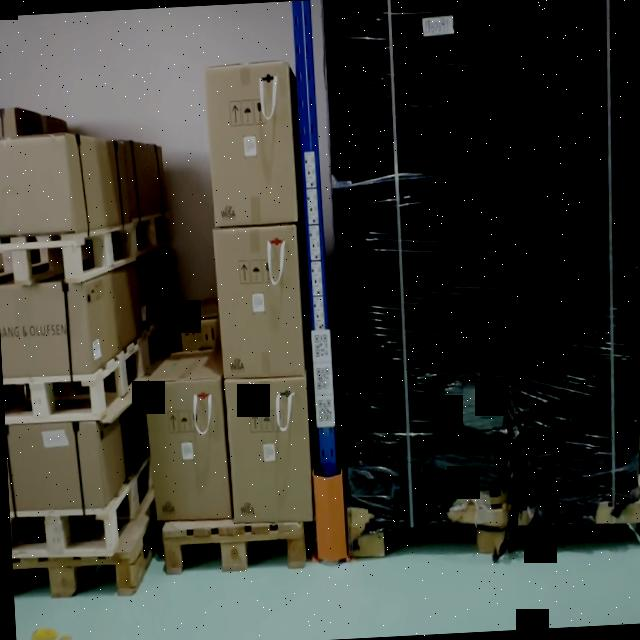box: (208, 71, 298, 231), (214, 226, 304, 376), (226, 378, 314, 522), (148, 384, 228, 519)
